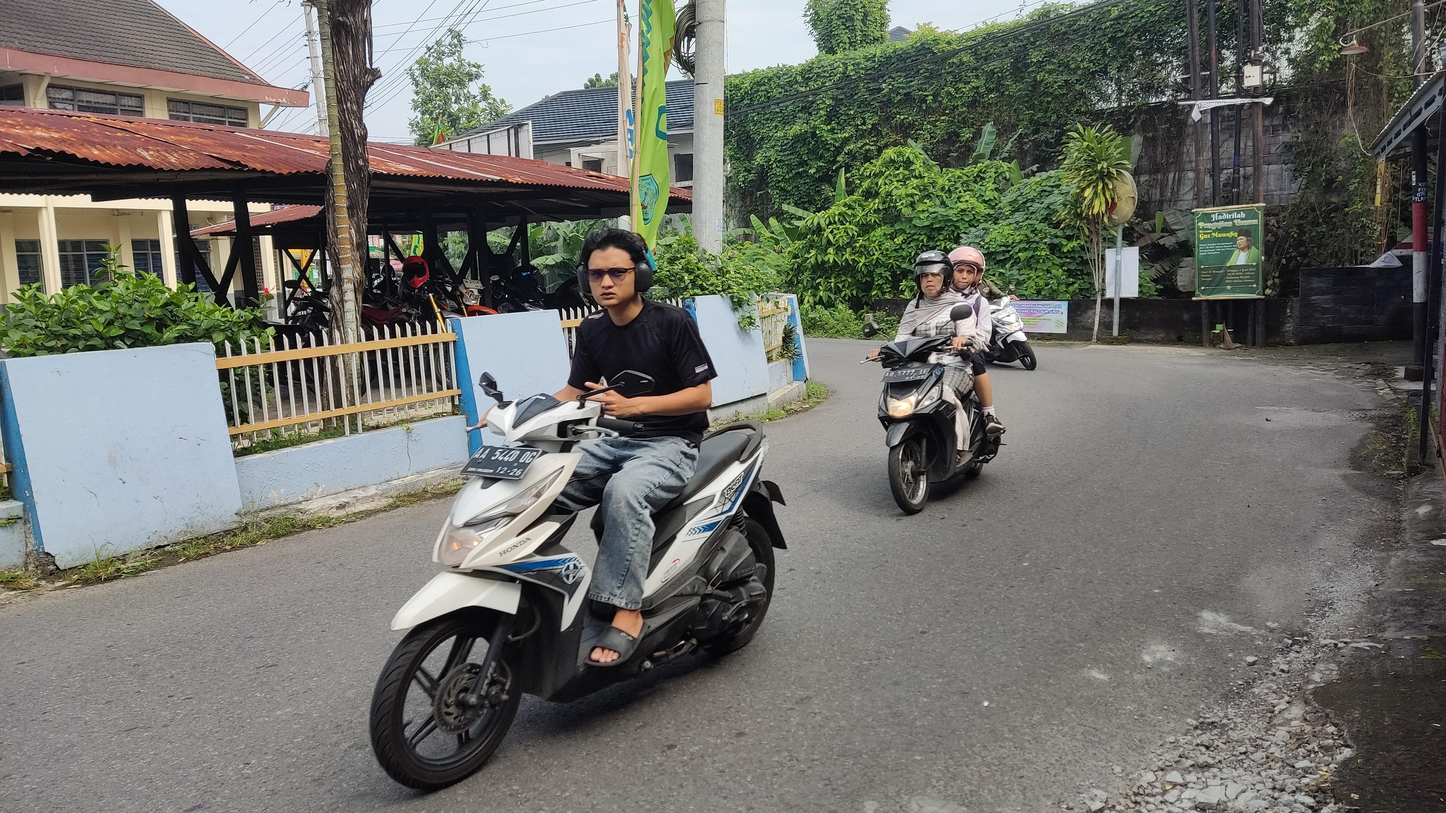helm: (913, 250, 954, 298), (947, 246, 986, 290)
nohelm: (575, 227, 655, 311)
riding: (368, 226, 791, 793), (859, 243, 1008, 515)
